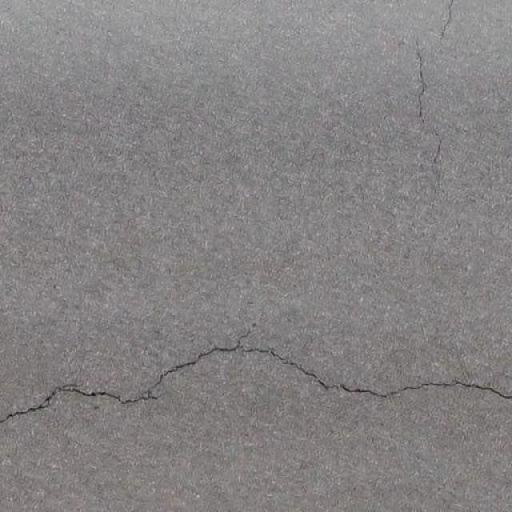minor crack: (114, 385, 156, 404)
moderate crack: (8, 339, 511, 435), (321, 0, 483, 215), (6, 382, 120, 424), (241, 342, 336, 388), (148, 346, 238, 394), (414, 42, 430, 170), (76, 387, 96, 396)
severe crack: (0, 1, 217, 270), (355, 377, 510, 400), (198, 339, 246, 357), (390, 32, 411, 64), (440, 0, 456, 35), (337, 384, 384, 394), (432, 135, 442, 169), (315, 377, 332, 390), (416, 97, 422, 122), (384, 389, 403, 396)
